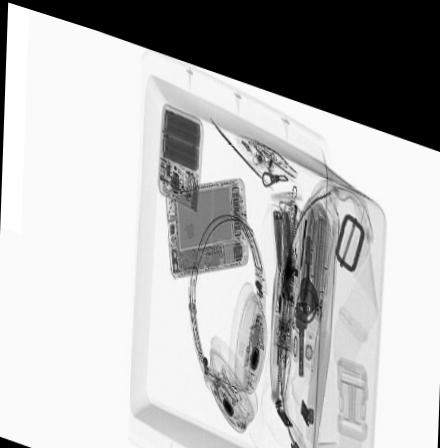Powerbank: (155, 83, 202, 202)
